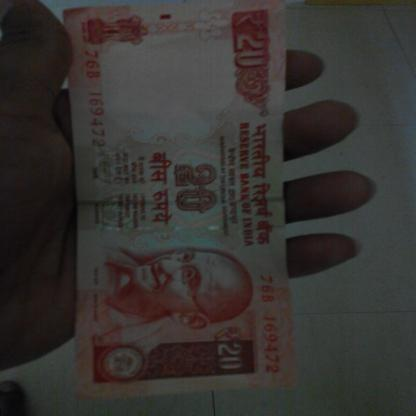Old20Front: (65, 0, 289, 394)
